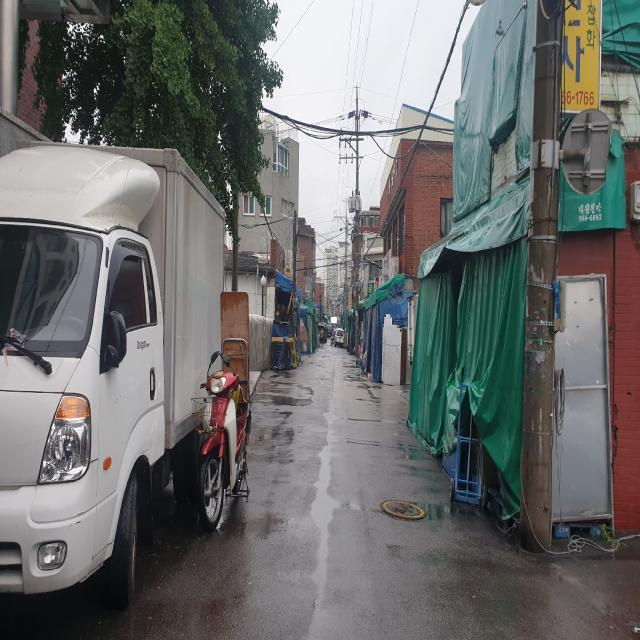car: (0, 147, 227, 615)
motorbike: (192, 350, 252, 530)
